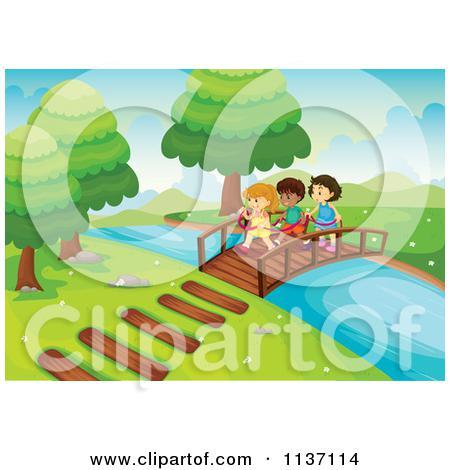person: (305, 171, 344, 254), (238, 183, 280, 255), (273, 176, 313, 251)
